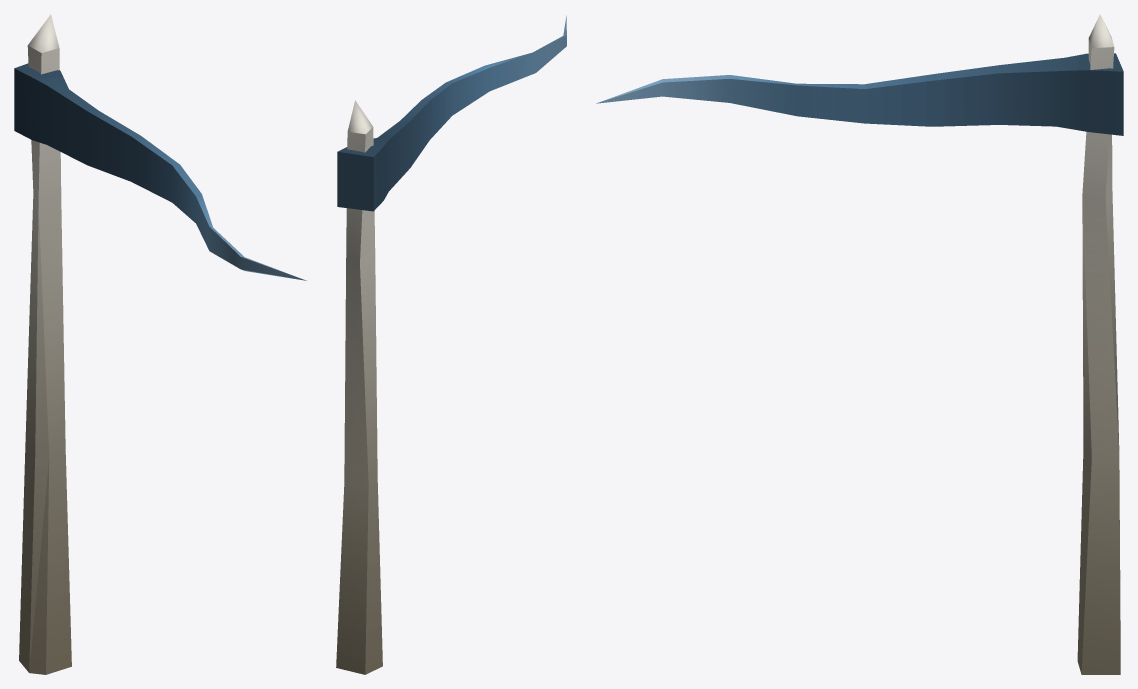
File: flag_mdl.FBX
3 renders of one model, left to right at view 1: azimuth 30°, elevation 25°; view 2: azimuth 150°, elevation 25°; view 3: azimuth 270°, elevation 25°, orthographic. The views are drawn at different scales.
Parts seen in each view (by area): view 1: flagPole, flag; view 2: flagPole, flag; view 3: flag, flagPole.
Part boxes in pixels (left/top/right/bottom): flagPole: left=19, top=14, right=71, bottom=674; flag: left=14, top=63, right=306, bottom=280; flagPole: left=336, top=100, right=382, bottom=674; flag: left=337, top=15, right=566, bottom=211; flag: left=596, top=53, right=1123, bottom=135; flagPole: left=1077, top=14, right=1120, bottom=674.
Bounding box in the file's own units: 0.3705 × 5.54 × 4.05.
1 material, 1 textured.
